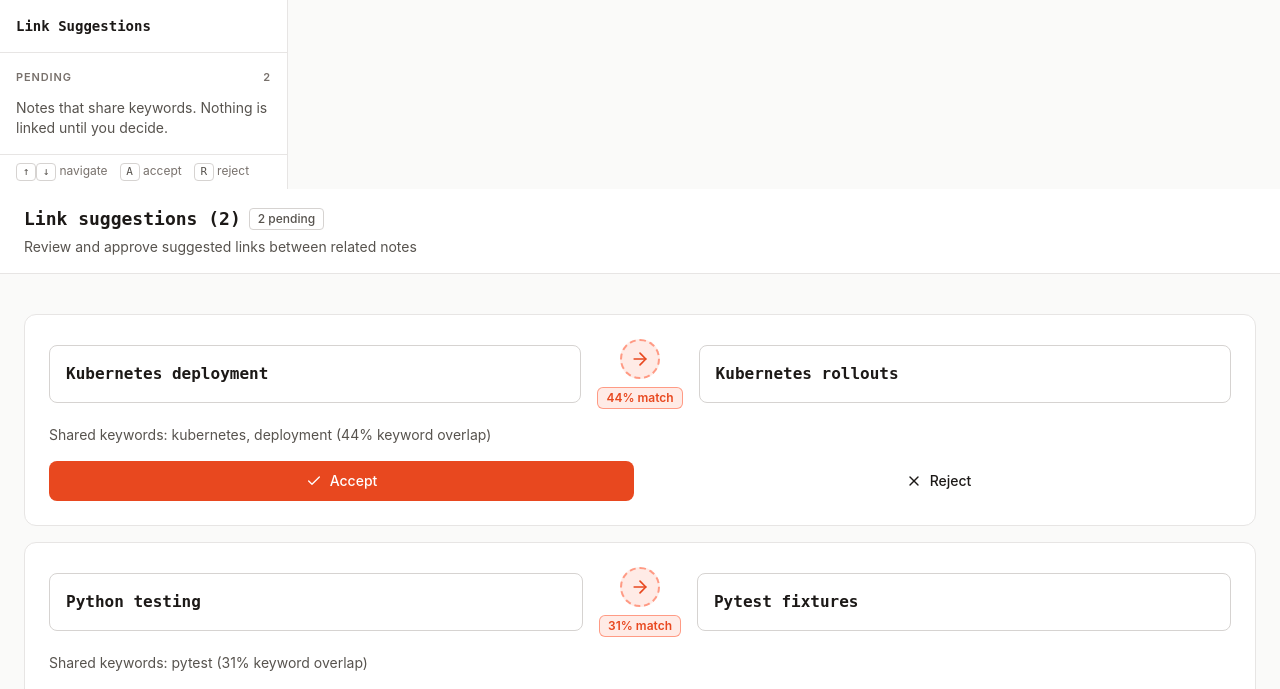
Test case: SuggestionsList › explains and removes a suggestion that was already handled elsewhere
expect the heading "Link suggestions (2)" is shown: met, box [24,205,241,233]
Click the button with aria-label "Accept link between Kubernetes deployment" at {"x": 342, "y": 481}, box [49,461,634,501]
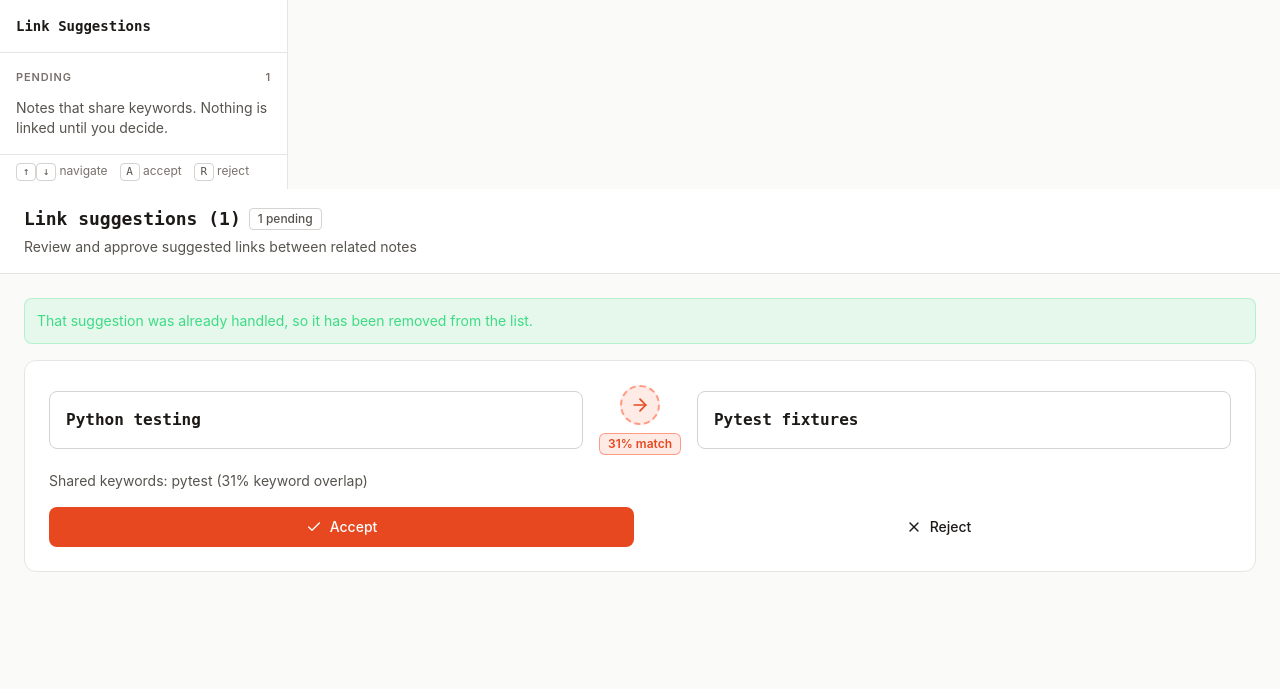
expect the message shows "already handled": met, box [37,312,533,329]
expect the number of list items is 1: met, box [24,360,1256,572]
